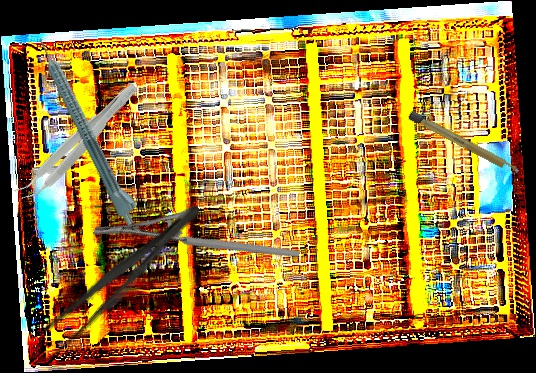Dressing Forceps: (27, 193, 210, 367)
Handpiece: (33, 32, 145, 228)
Needle Holder: (92, 166, 301, 320)
Scalpel Handle: (407, 110, 523, 178)
Tissue Forceps: (11, 74, 143, 209)
